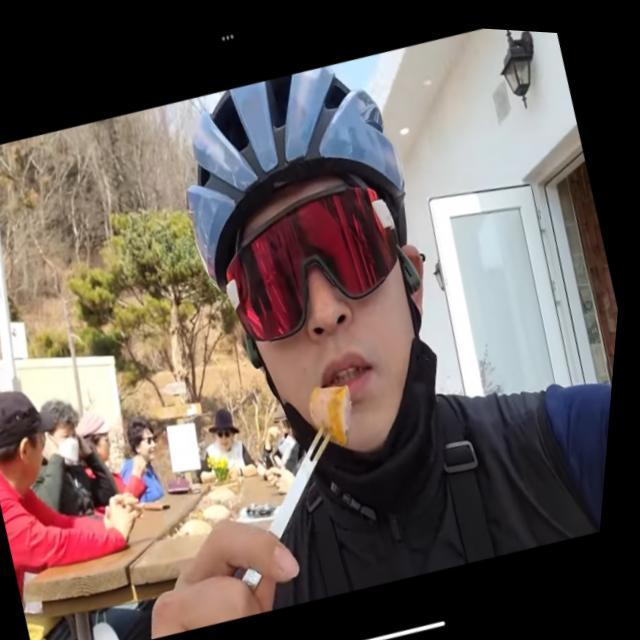Helmet: (183, 66, 438, 455)
